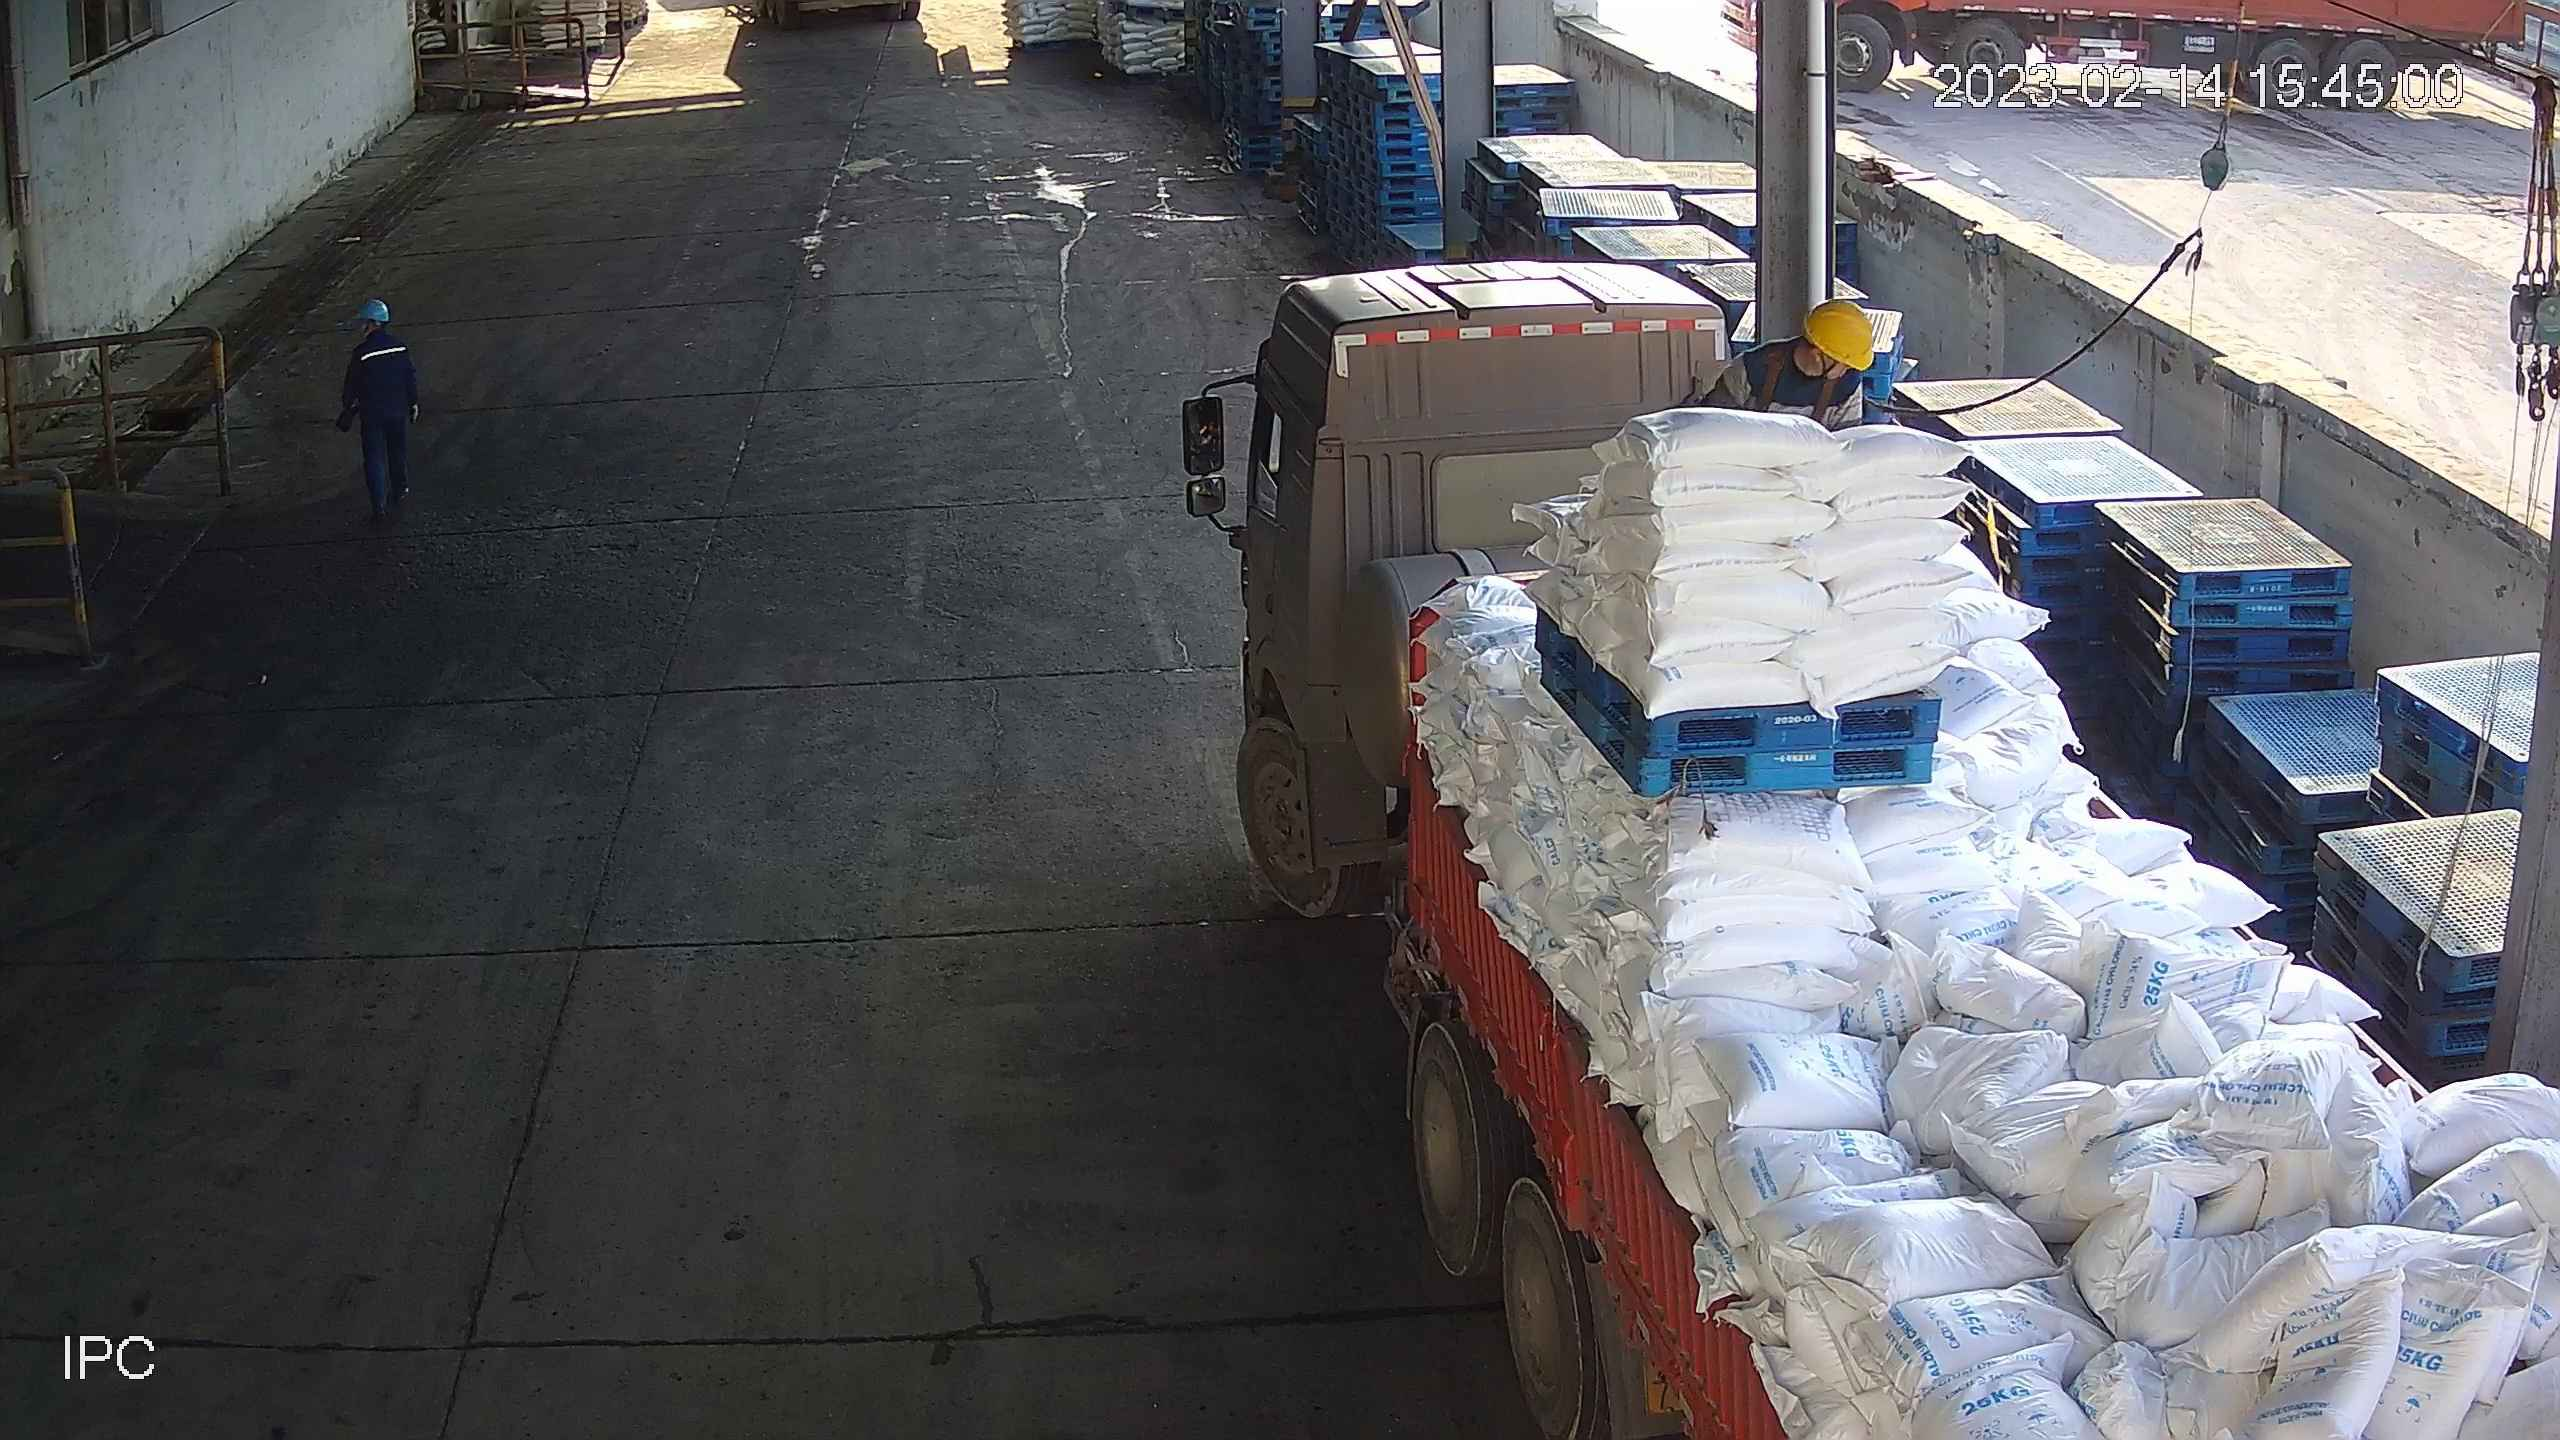belt: (1758, 375, 1841, 425)
head: (1744, 304, 1870, 411), (349, 297, 411, 360)
helmet: (1799, 301, 1876, 371), (355, 295, 390, 327)
people: (339, 297, 425, 518)
truck: (1172, 267, 2560, 1440)
